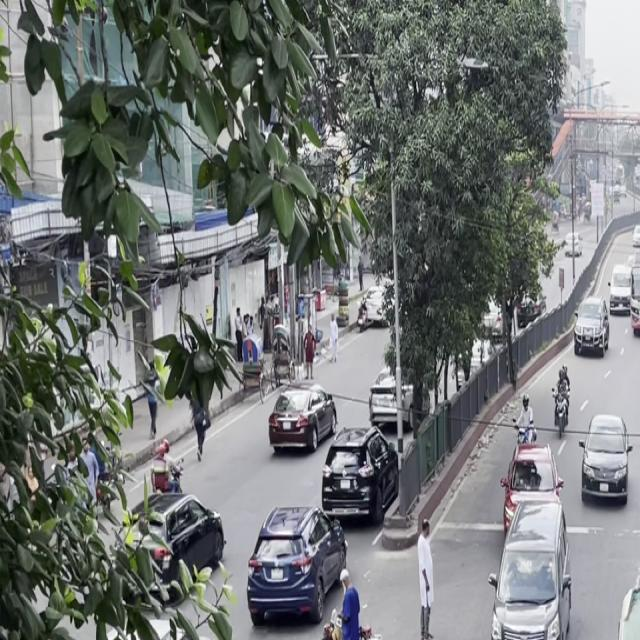bus: (564, 536, 640, 640), (630, 245, 640, 340)
car: (241, 500, 348, 635), (316, 424, 400, 530), (264, 378, 342, 462), (577, 407, 636, 513), (363, 367, 415, 437), (570, 297, 610, 363), (605, 273, 634, 322), (465, 633, 589, 640)
motorbike: (550, 360, 573, 438)
